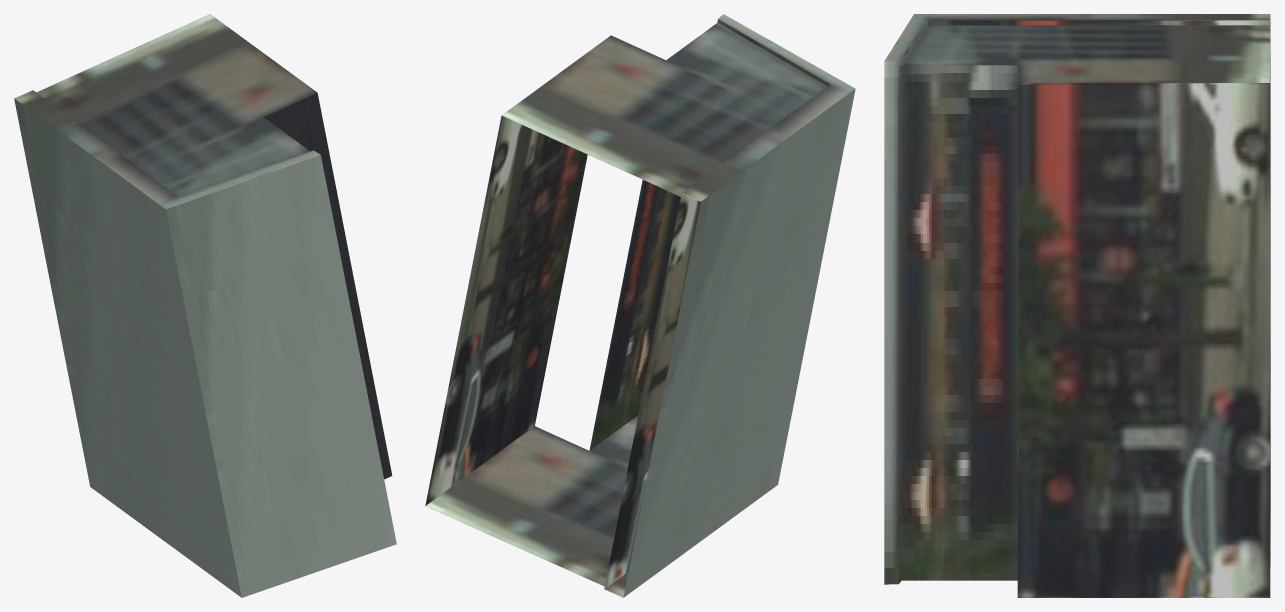
3 views of the same model, side by side, from view 1: azimuth 30°, elevation 25°; view 2: azimuth 150°, elevation 25°; view 3: azimuth 270°, elevation 25° (orthographic). The views are drawn at different scales.
Visible parts, largest first — view 1: IndexedFaceSet__5_0, IndexedFaceSet__4_0, IndexedFaceSet__7_0, IndexedFaceSet__10_0, IndexedFaceSet; view 2: IndexedFaceSet__4_0, IndexedFaceSet__9_0, IndexedFaceSet__7_0, IndexedFaceSet__8_0, IndexedFaceSet__11_0, IndexedFaceSet__3_0, IndexedFaceSet; view 3: IndexedFaceSet__9_0, IndexedFaceSet__11_0, IndexedFaceSet__7_0, IndexedFaceSet__6_0, IndexedFaceSet, IndexedFaceSet__3_0.
Boxes of the visible parts, x1=… form: IndexedFaceSet__5_0: x1=166, y1=155, x2=396, y2=597; IndexedFaceSet__4_0: x1=14, y1=98, x2=241, y2=597; IndexedFaceSet__7_0: x1=36, y1=14, x2=317, y2=196; IndexedFaceSet__10_0: x1=264, y1=93, x2=392, y2=479; IndexedFaceSet: x1=14, y1=90, x2=320, y2=209; IndexedFaceSet__4_0: x1=623, y1=89, x2=855, y2=597; IndexedFaceSet__9_0: x1=425, y1=115, x2=587, y2=505; IndexedFaceSet__7_0: x1=502, y1=23, x2=827, y2=196; IndexedFaceSet__8_0: x1=425, y1=415, x2=637, y2=586; IndexedFaceSet__11_0: x1=589, y1=180, x2=680, y2=450; IndexedFaceSet__3_0: x1=604, y1=193, x2=700, y2=588; IndexedFaceSet: x1=682, y1=14, x2=855, y2=201; IndexedFaceSet__9_0: x1=1017, y1=83, x2=1270, y2=597; IndexedFaceSet__11_0: x1=899, y1=65, x2=1017, y2=580; IndexedFaceSet__7_0: x1=899, y1=25, x2=1270, y2=82; IndexedFaceSet__6_0: x1=884, y1=60, x2=898, y2=584; IndexedFaceSet: x1=884, y1=14, x2=1270, y2=61; IndexedFaceSet__3_0: x1=927, y1=20, x2=1270, y2=538.
Size of the model in its own units: 9.39 by 14.72 by 9.88.
10 materials, 10 textured.
